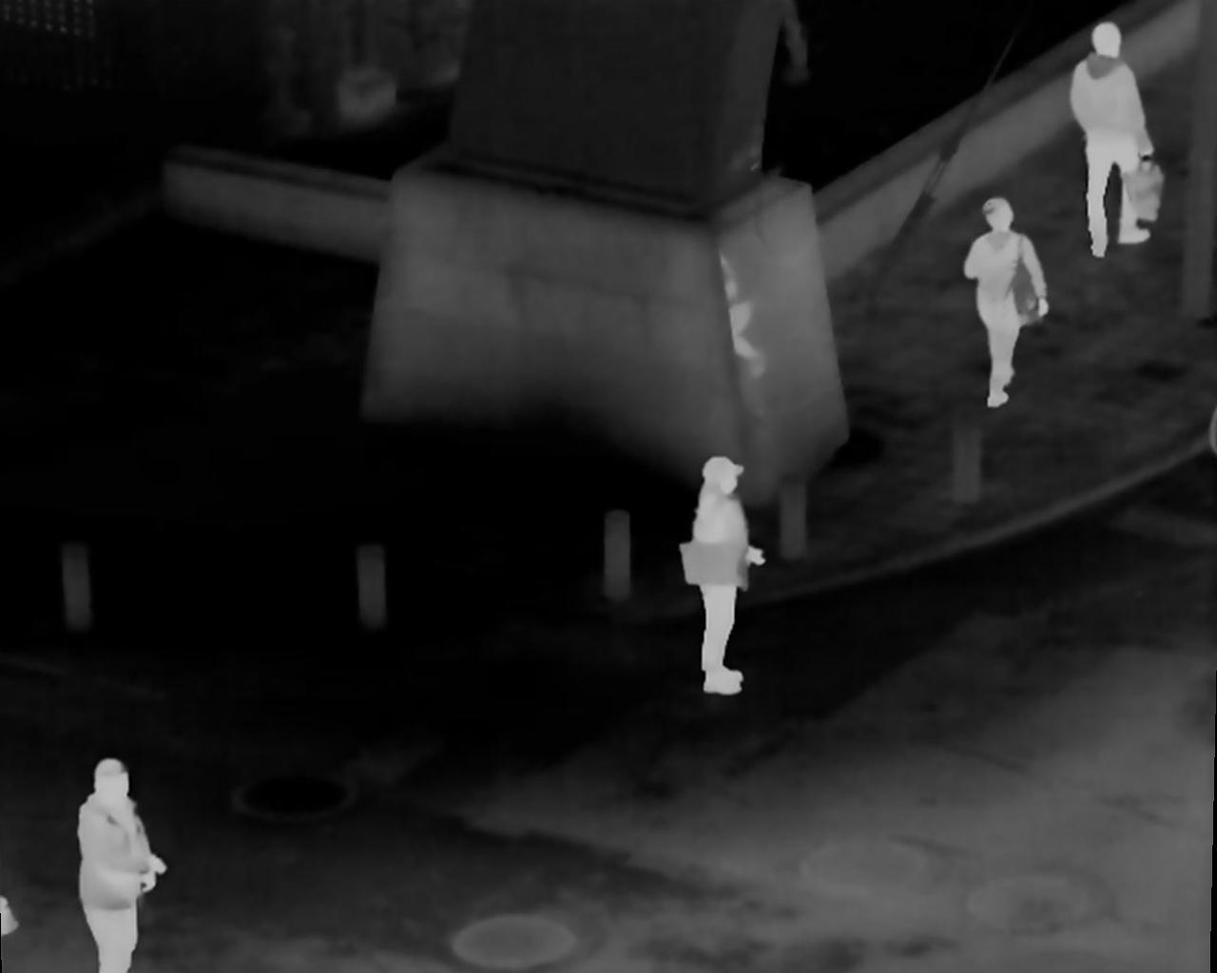person: (1067, 15, 1161, 267), (686, 452, 768, 707), (75, 758, 167, 973), (963, 196, 1042, 415)
